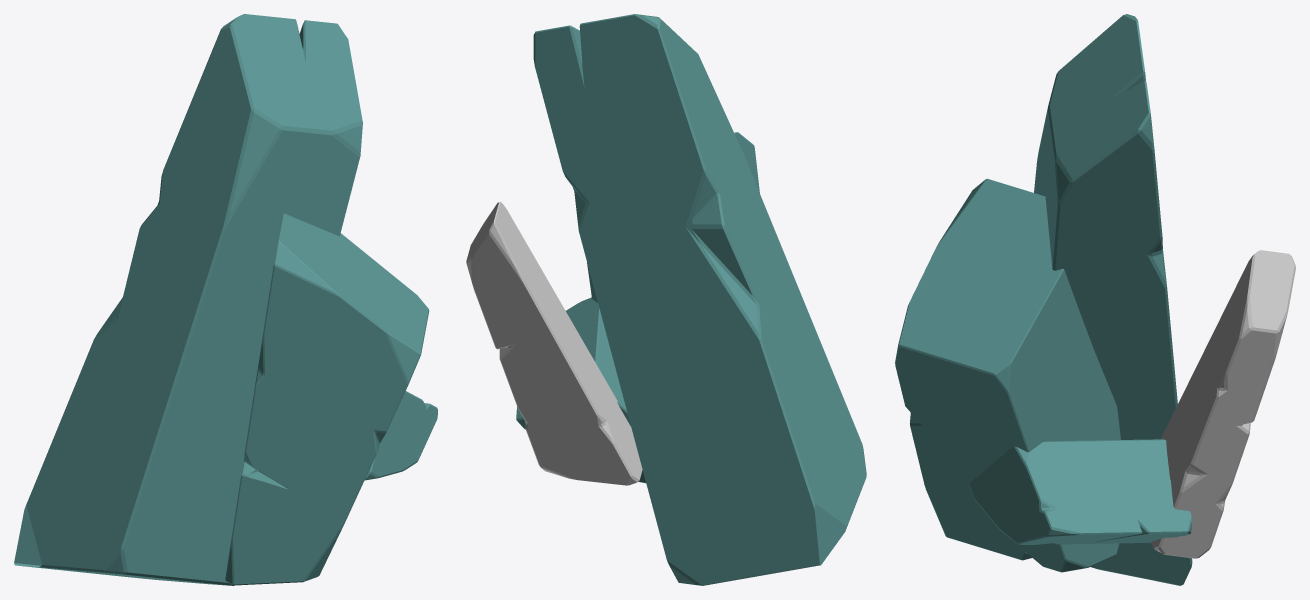
File: RocksSmall.fbx
The picture shows the model from 3 angles, left to right: view 1: azimuth 30°, elevation 25°; view 2: azimuth 150°, elevation 25°; view 3: azimuth 270°, elevation 25°; orthographic projection. The views are drawn at different scales.
Visible parts, largest first — view 1: RocksSmall; view 2: RocksSmall; view 3: RocksSmall.
Part boxes in pixels (x1,y1,x2,y2): RocksSmall: [14, 14, 437, 585]; RocksSmall: [466, 14, 866, 585]; RocksSmall: [895, 14, 1295, 585].
Size of the model in its own units: 725 by 1070 by 648.
